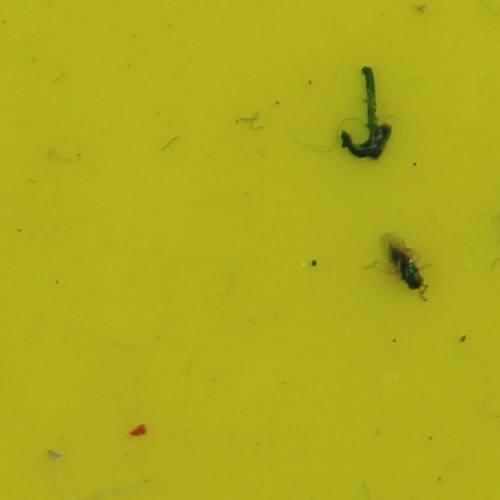Psyllaephagus: (387, 243, 422, 289)
